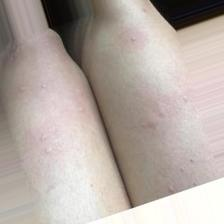Mosquito: (14, 81, 31, 98), (125, 30, 140, 49)
